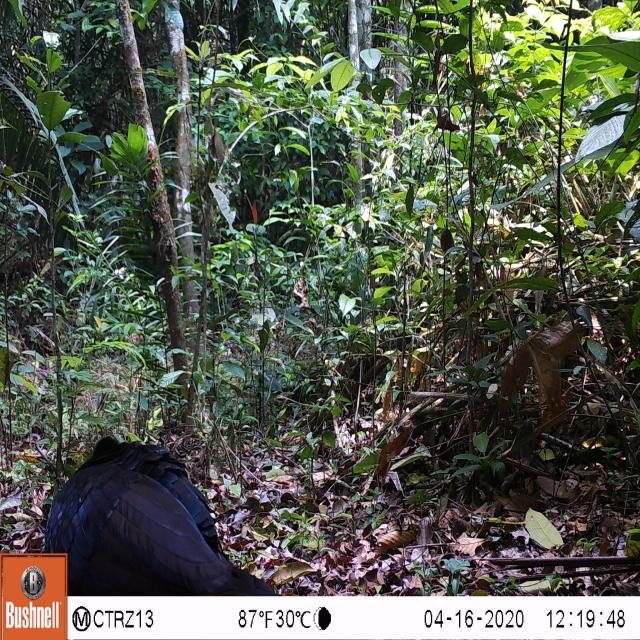Salvins Curassow: (34, 415, 283, 591)
